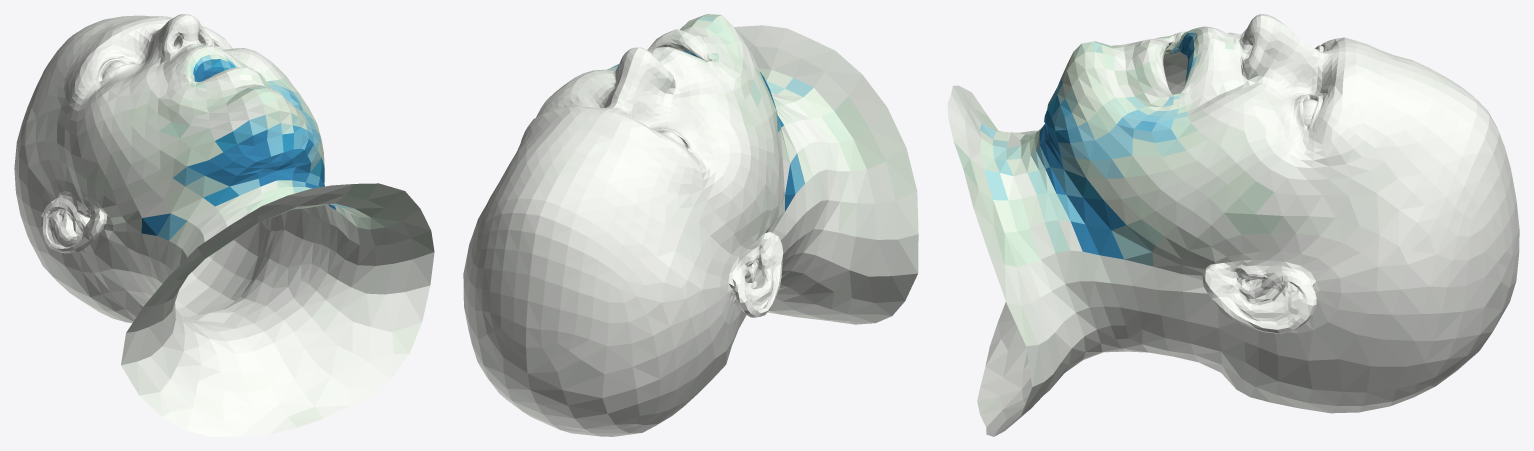
Rendered from comaspiralconv_1.glb.
3 renders of one model, left to right at view 1: azimuth 30°, elevation 25°; view 2: azimuth 150°, elevation 25°; view 3: azimuth 270°, elevation 25°, orthographic. The views are drawn at different scales.
Visible parts, largest first — view 1: imagetostl_mesh0; view 2: imagetostl_mesh0; view 3: imagetostl_mesh0.
Boxes of the visible parts, x1,y1,x2,y2 form: imagetostl_mesh0: [14, 14, 434, 436]; imagetostl_mesh0: [463, 14, 918, 436]; imagetostl_mesh0: [947, 14, 1519, 436].
Bounding box in the file's own units: 238 × 237 × 315.
